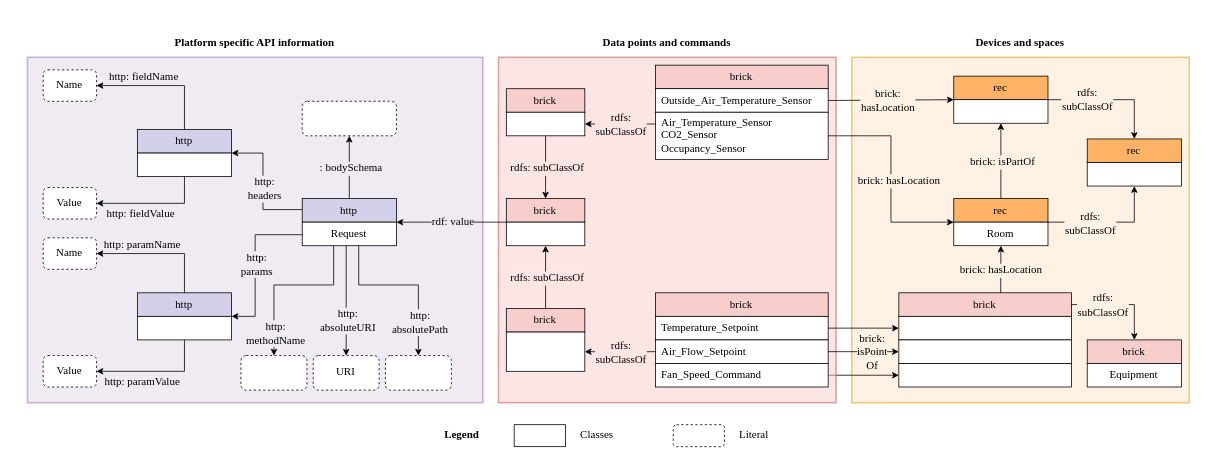
The diagram is 1217 pixels wide and 474 high, and some of its shapes have lost their labels. Here are the shapes that lost their labels. From the top down, the centre of each, then its label:
pixel 348 117: JSON Schema
pixel 545 123: Sensor
pixel 1000 111: Building
pixel 183 164: MessageHeader
pixel 1133 173: Architecture
pixel 545 233: Point
pixel 183 327: Parameter
pixel 984 327: Thermostat
pixel 545 351: Setpoint/ Command
pixel 984 351: Ventilation_Air_System
pixel 273 372: GET / PATCH
pixel 417 372: Path
pixel 984 374: Cooling_Coil
